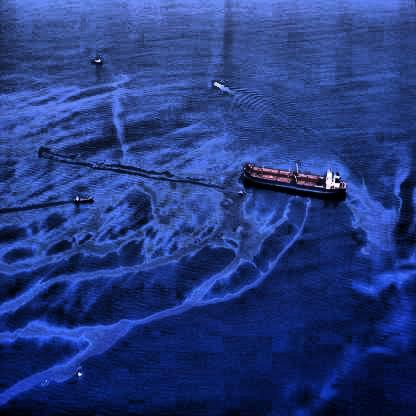sheen: (0, 88, 308, 406), (346, 170, 397, 256)
